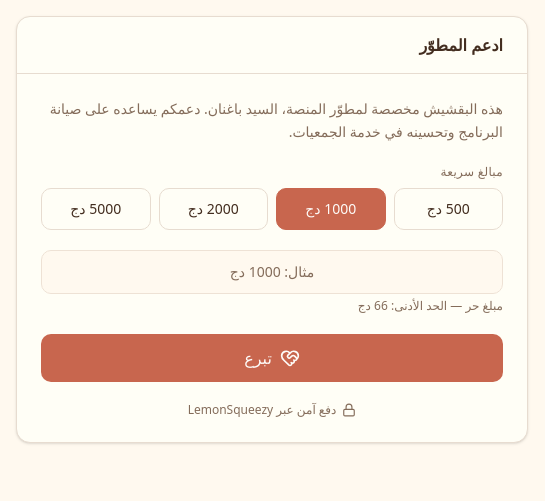
Test case: DonationPage › affiche la vraie raison backend même pour une erreur 4xx (montant invalide)
Click the button "تبرع": (272,358) [41,334,503,382]
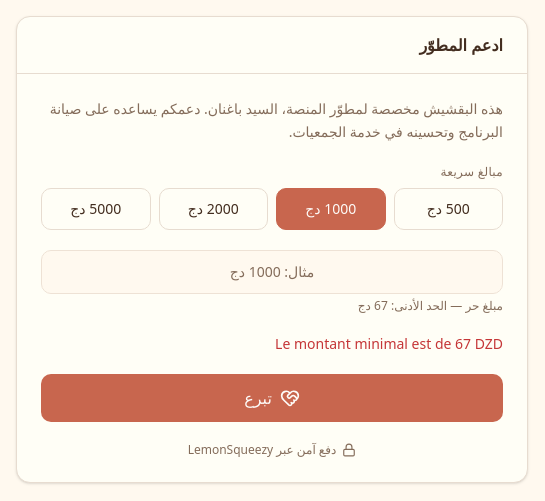
Check: the text "Le montant minimal est de 67 DZD" is shown, box [275,334,503,352]
